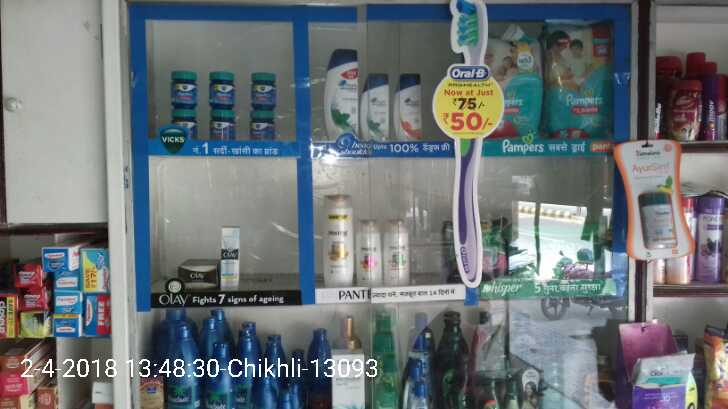vicks: (209, 70, 235, 108), (172, 72, 200, 103), (209, 108, 236, 137), (251, 104, 274, 138), (251, 72, 275, 104), (174, 108, 200, 134)
